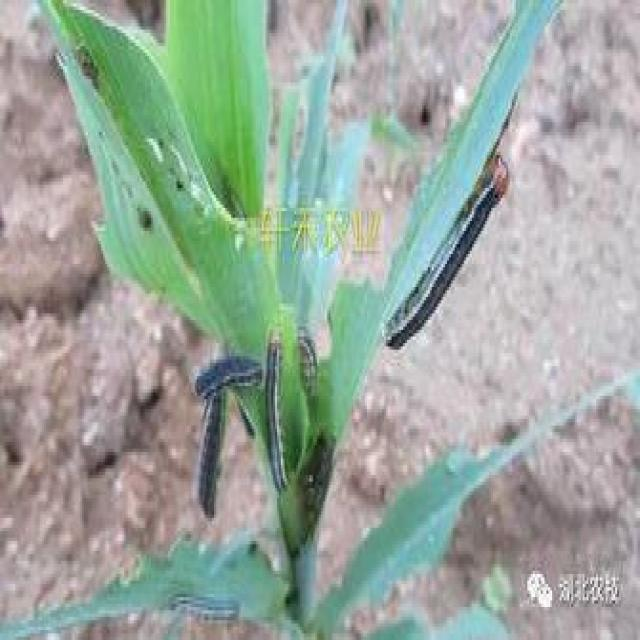BeetArmyWorm-Larva-: (376, 144, 518, 358), (261, 324, 298, 496), (192, 382, 232, 532), (192, 352, 268, 403)
